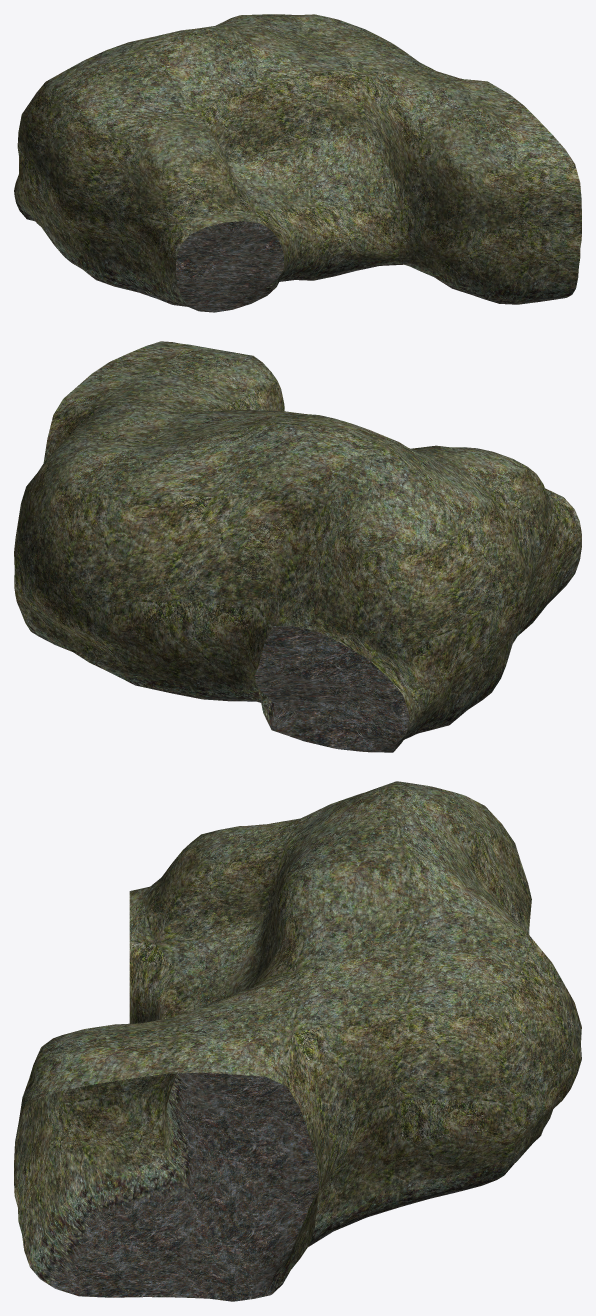
File: thm_all_cave_flatland_s01_damprock_r3_mesh_r3.fbx
3 views of the same model, one above another, from view 1: azimuth 30°, elevation 25°; view 2: azimuth 150°, elevation 25°; view 3: azimuth 270°, elevation 25° (orthographic). The views are drawn at different scales.
Visible parts, largest first — view 1: mesh_node; view 2: mesh_node; view 3: mesh_node.
Boxes of the visible parts, box(x1,y1,x2,y2) form: mesh_node: box(14, 14, 581, 312); mesh_node: box(14, 341, 581, 752); mesh_node: box(14, 781, 581, 1301).
Bounding box in the file's own units: 51.47 × 30.23 × 47.83.
